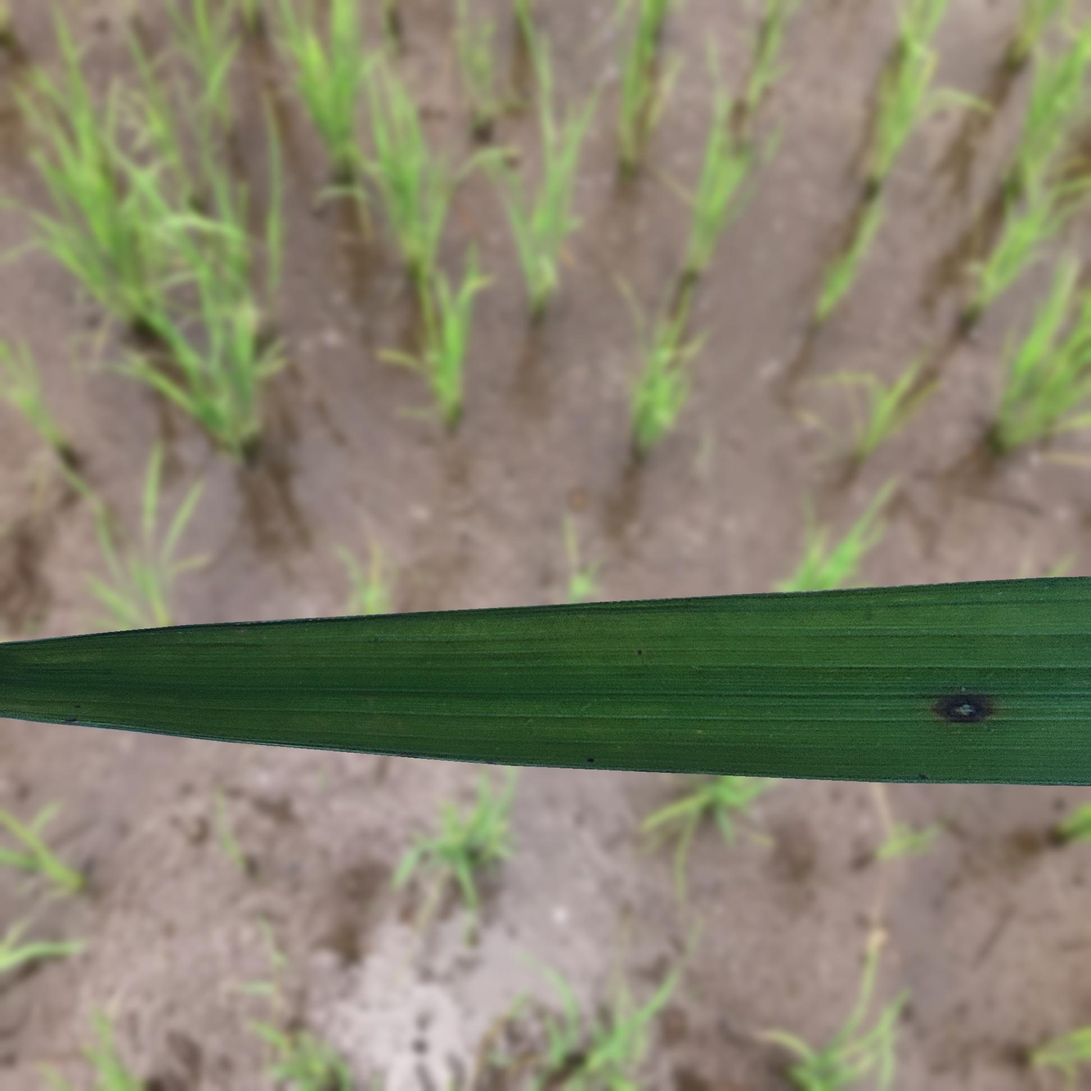LEAF BLAST: (936, 694, 993, 723)
